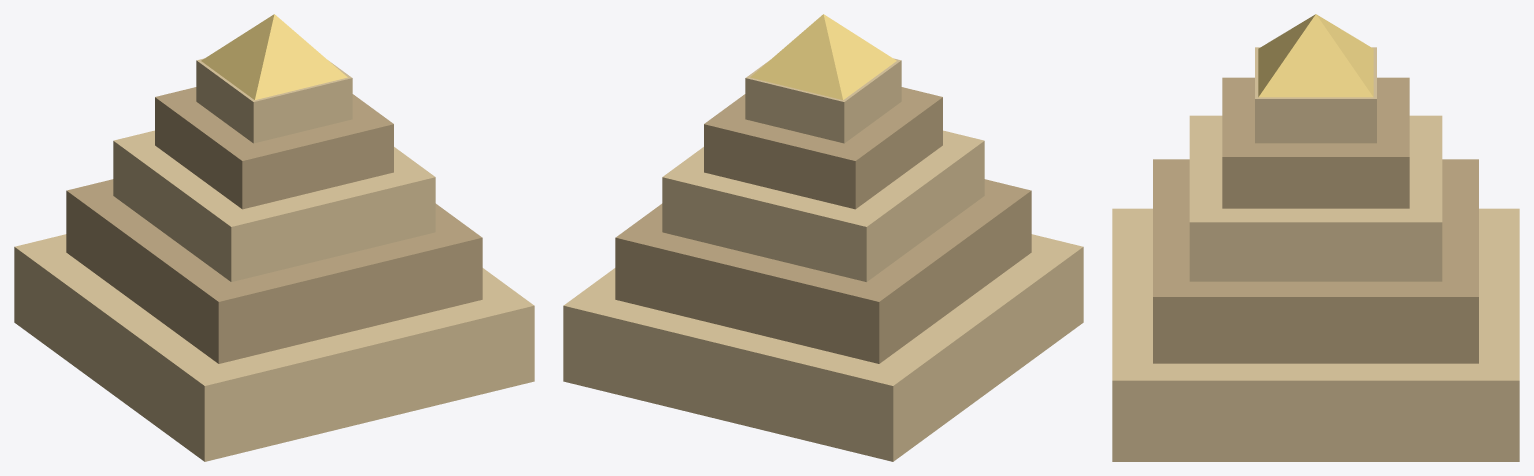
Rendered from prop_pyramid.glb.
The picture shows the model from 3 angles, left to right: view 1: azimuth 30°, elevation 25°; view 2: azimuth 150°, elevation 25°; view 3: azimuth 270°, elevation 25°; orthographic projection. The views are drawn at different scales.
Parts seen in each view (by area): view 1: prop_pyramid; view 2: prop_pyramid; view 3: prop_pyramid.
Part boxes in pixels (left/top/right/bottom): prop_pyramid: left=14, top=14, right=534, bottom=461; prop_pyramid: left=563, top=14, right=1083, bottom=461; prop_pyramid: left=1112, top=14, right=1519, bottom=461.
Size of the model in its own units: 10 by 9.8 by 10.
